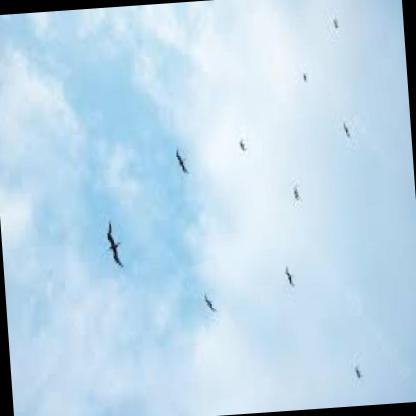bird: (189, 259, 231, 337), (95, 210, 133, 282), (163, 126, 194, 186), (283, 250, 302, 295), (278, 173, 304, 201)
